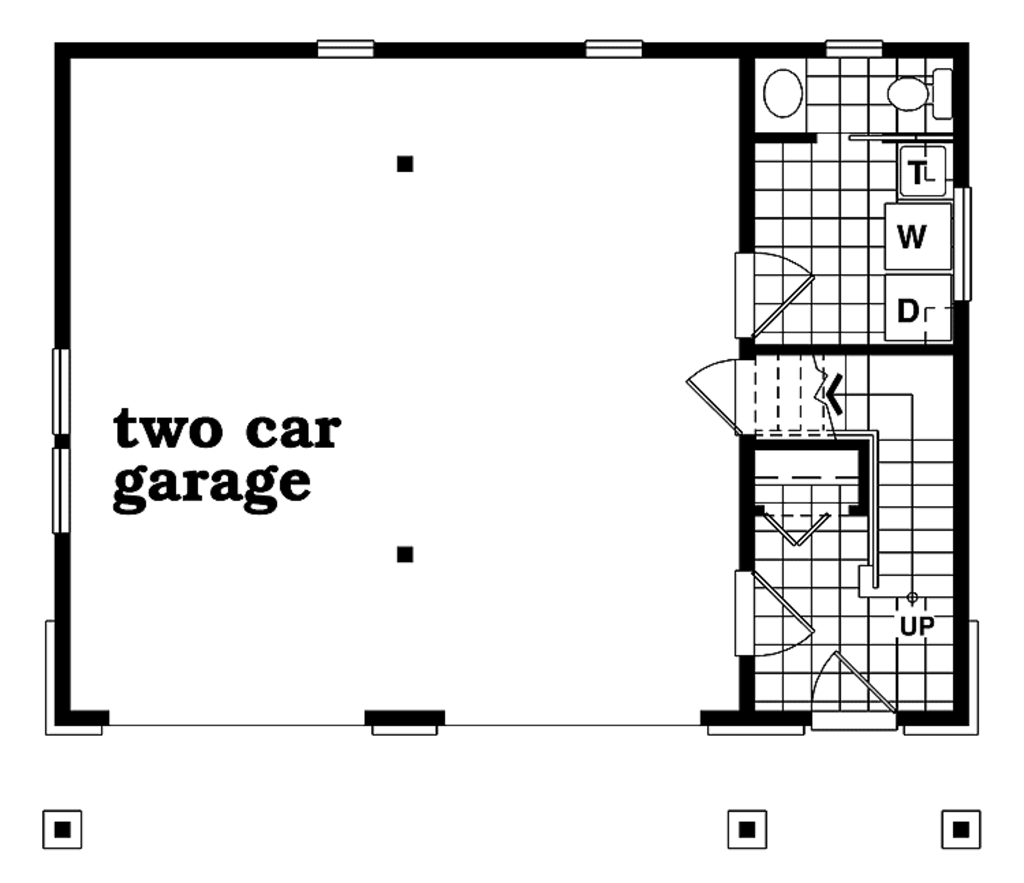door: (740, 253, 811, 352), (735, 570, 813, 652), (813, 651, 892, 706), (685, 363, 743, 436)
large_sink: (881, 63, 955, 126)
stairs: (819, 356, 970, 598)
window: (958, 186, 976, 297), (55, 348, 69, 435), (823, 39, 886, 56), (53, 448, 65, 532), (319, 44, 370, 60), (585, 43, 640, 56)
